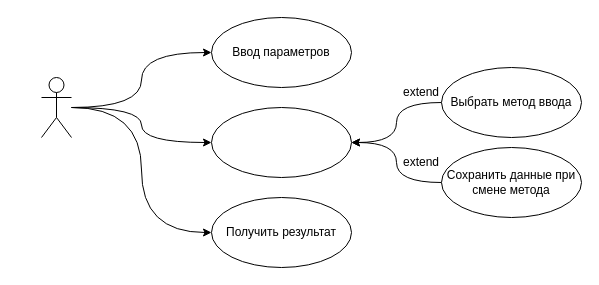
Some shapes in this 599 by 285 pixel diagram are drawn without their labels. The centre of each missing label's shape, as x and y in pixels:
"Ввести данные матрицы" goes at point 281,142.
"Пользователь" goes at point 56,107.
